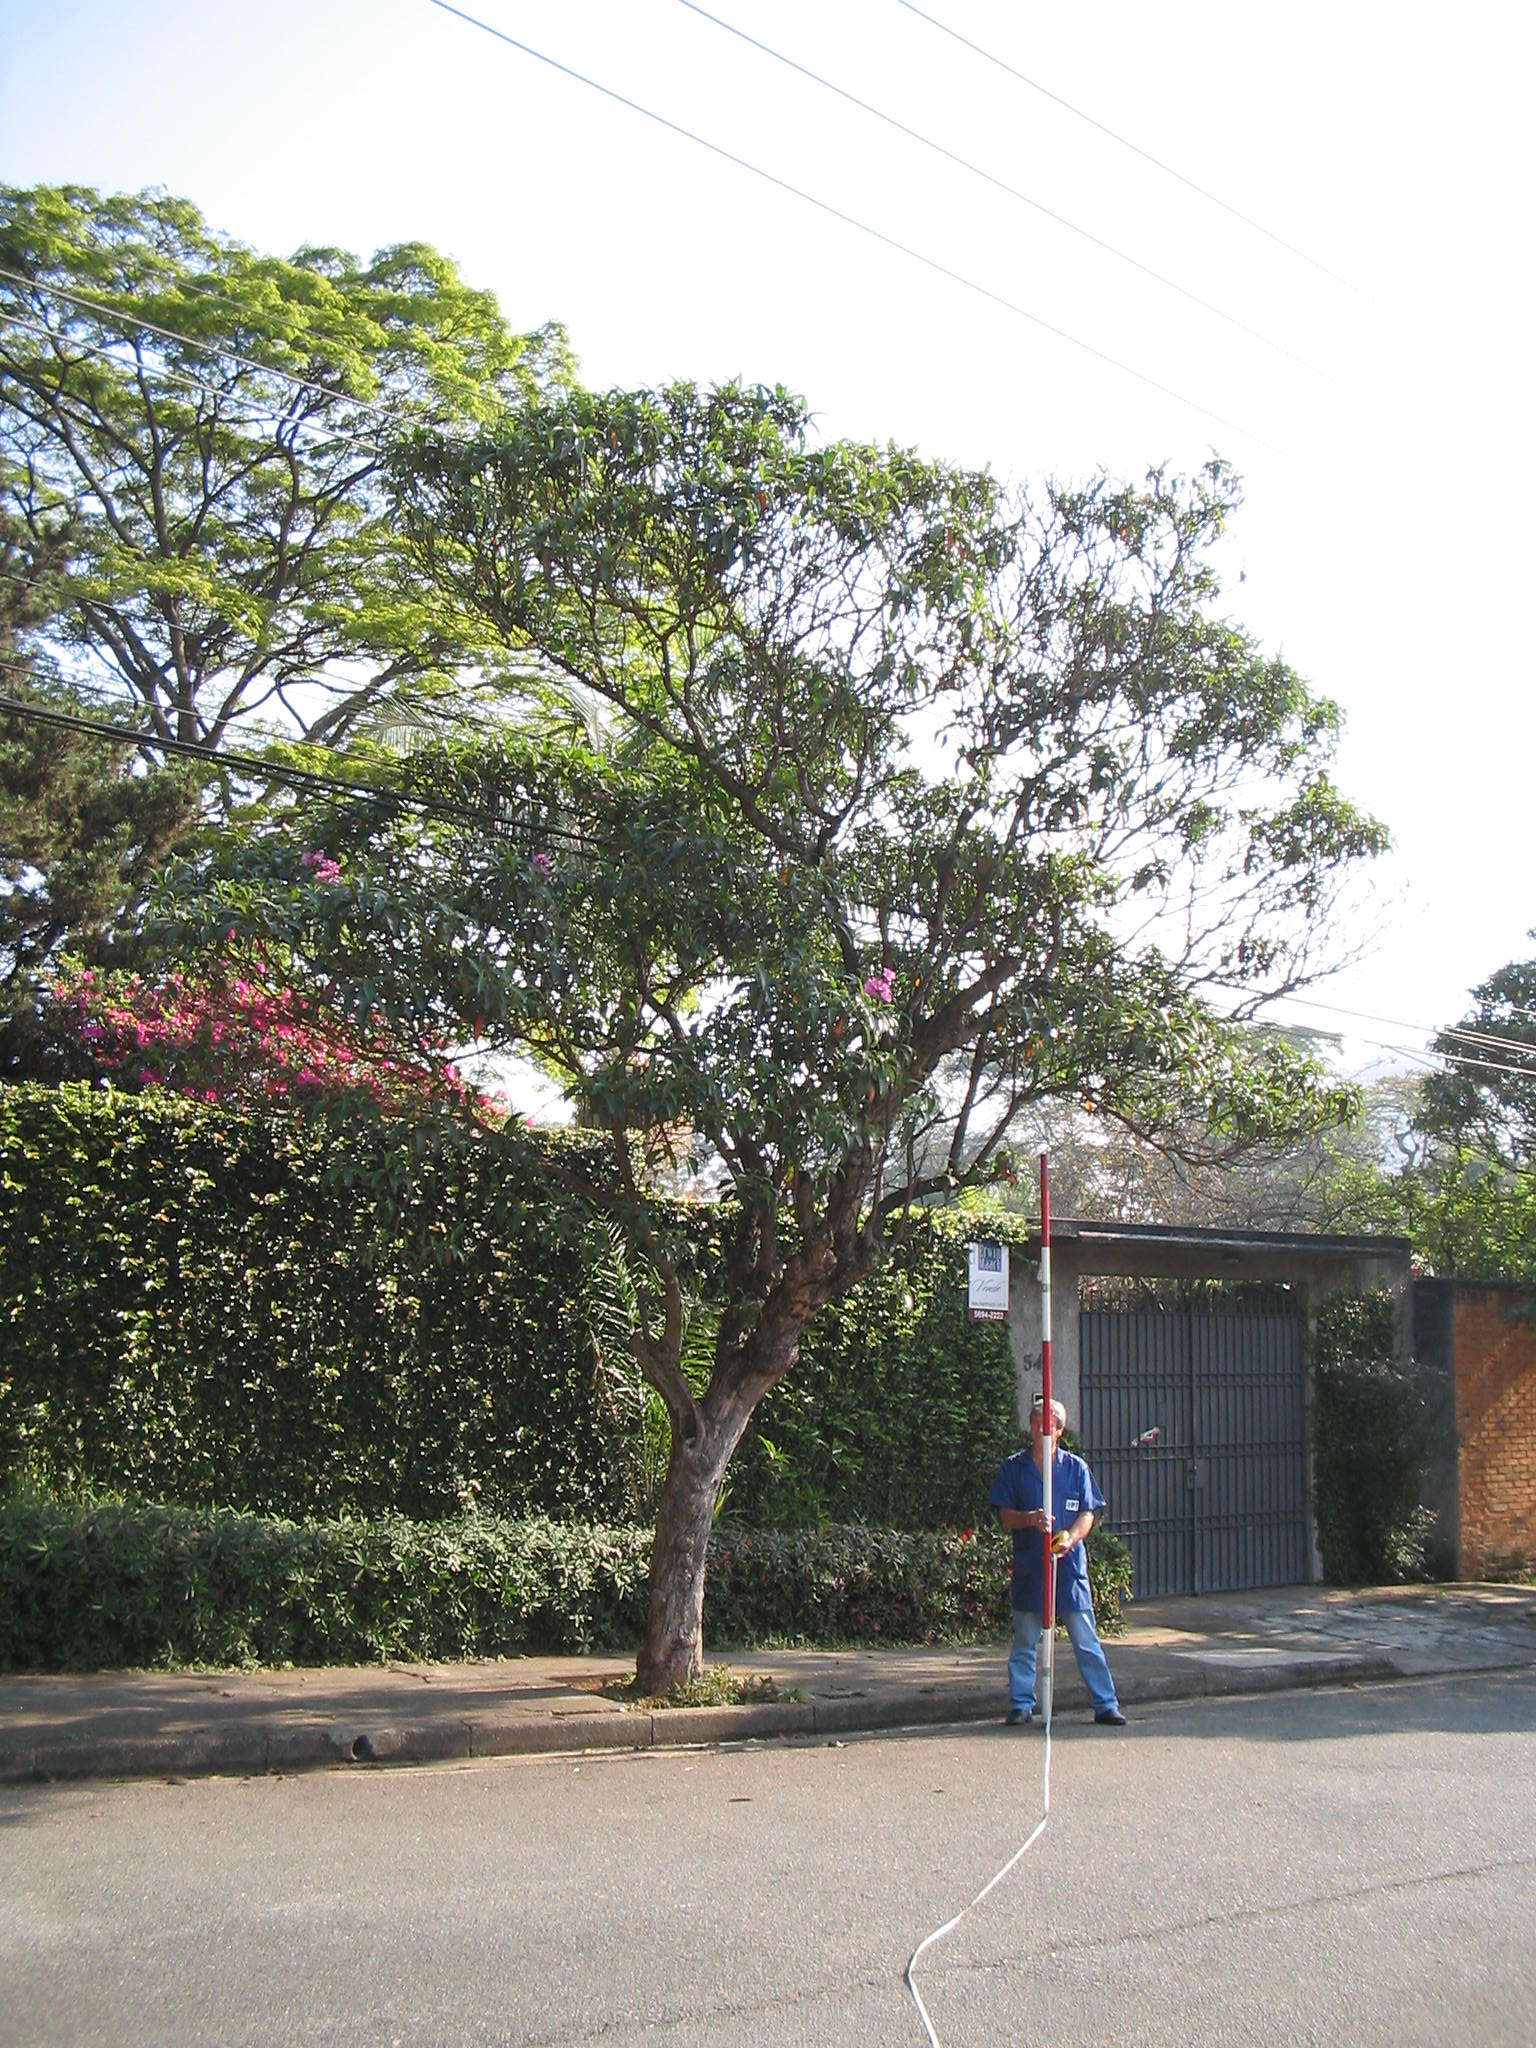crown: (315, 400, 1396, 1255)
stem: (587, 1417, 766, 1695)
stick: (991, 1153, 1092, 1724)
tree: (303, 392, 1404, 1705)
